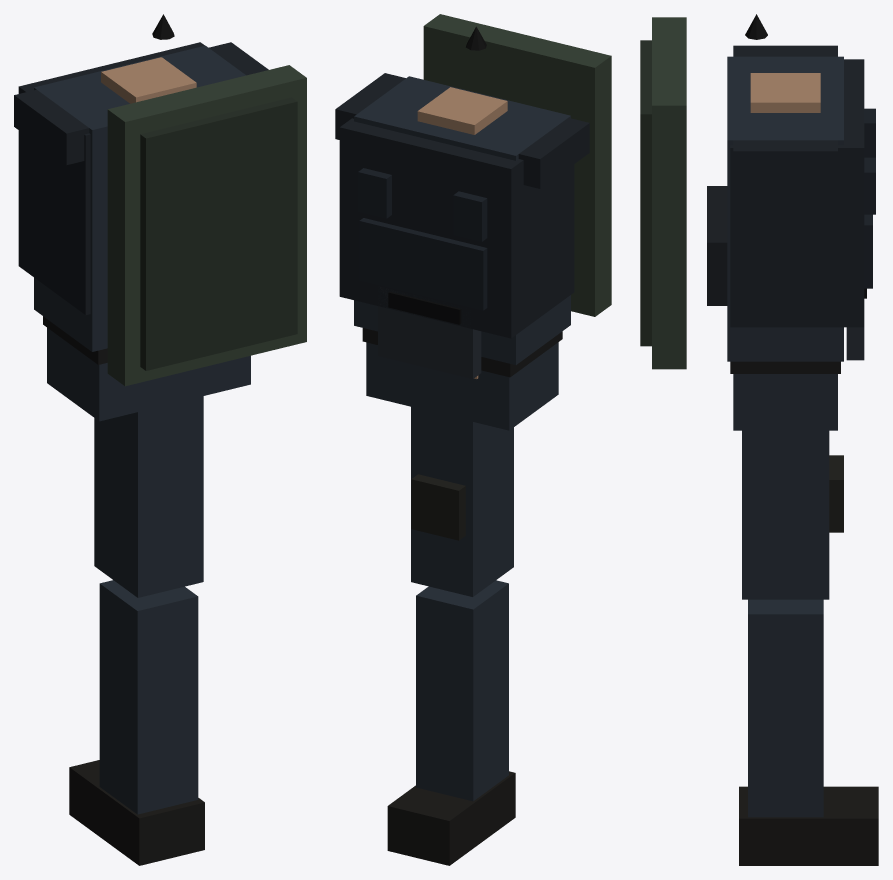
The model's file is operator_castle.glb.
3 views of the same model, side by side, from view 1: azimuth 30°, elevation 25°; view 2: azimuth 150°, elevation 25°; view 3: azimuth 270°, elevation 25° (orthographic). The views are drawn at different scales.
Visible parts, largest first — view 1: torso, legL, hips; view 2: torso, legL, hips, head; view 3: torso, legL, hips, head.
Boxes of the visible parts, bbox=[...] form: torso: bbox=[14, 14, 306, 386]; legL: bbox=[69, 396, 204, 865]; hips: bbox=[43, 316, 250, 421]; torso: bbox=[335, 14, 611, 364]; legL: bbox=[387, 407, 515, 865]; hips: bbox=[362, 328, 562, 430]; head: bbox=[378, 286, 481, 379]; torso: bbox=[640, 14, 875, 369]; legL: bbox=[739, 430, 878, 865]; hips: bbox=[730, 361, 840, 430]; head: bbox=[707, 186, 866, 360].
Size of the model in its own units: 0.43 by 1.58 by 0.41.
